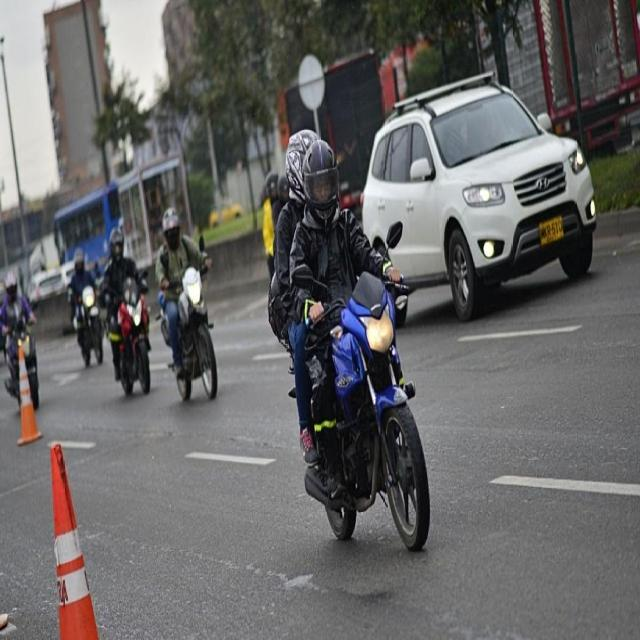MOTORCYCLE: (273, 270, 427, 552), (162, 279, 224, 404), (107, 282, 155, 399), (72, 285, 106, 370)
SUV: (360, 64, 597, 328)
